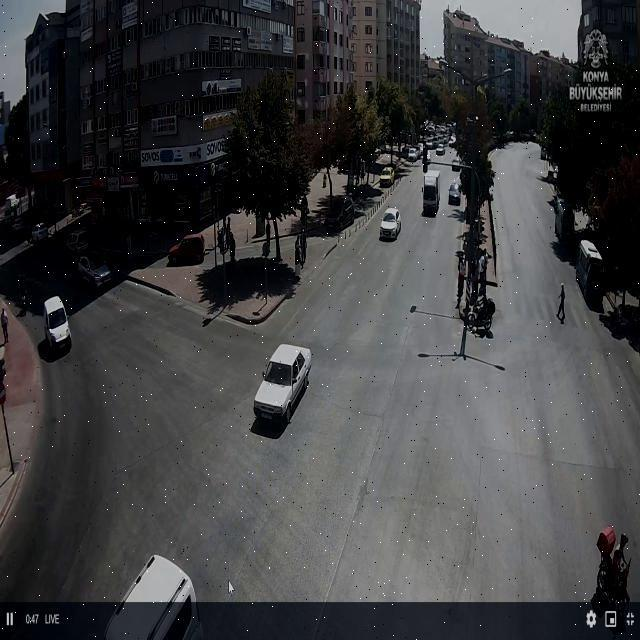Car: (249, 339, 314, 441), (378, 207, 402, 244), (379, 165, 394, 190), (448, 182, 461, 208), (406, 148, 417, 162), (436, 144, 444, 157)
Cycle: (592, 528, 632, 602)
Truck: (422, 168, 442, 218)
Van: (40, 294, 78, 359)
